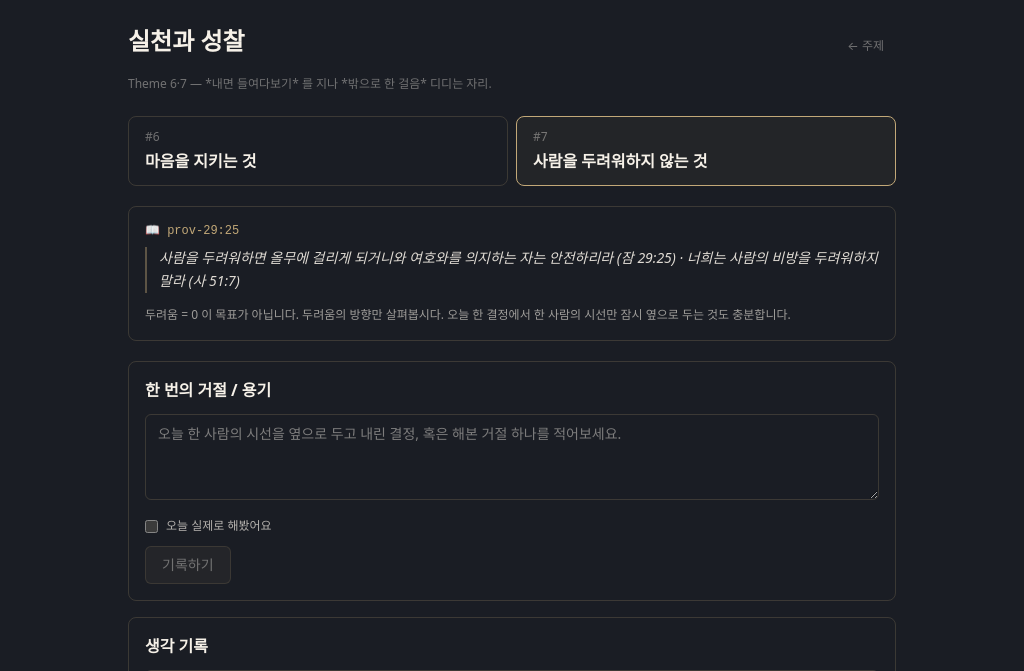
Test: /topics/practice › 적은 내용·체크·주제·성구 참조가 그대로 API 로 나가고, 성공하면 입력이 비워진다
In the text box with placeholder "오늘 한 사람의 시선을 옆으로 두고 내린 결정, 혹은 해본 거절 하나를 적어보세요.": {"x": 512, "y": 457} [145, 414, 879, 500], type "오늘 야근 요청을 거절했다"
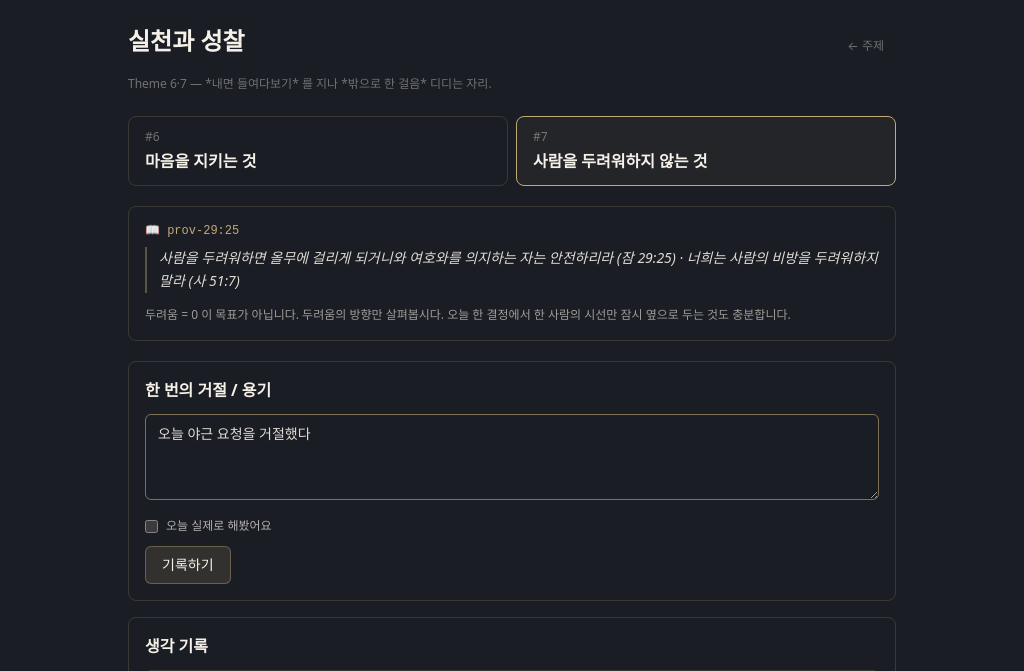
Click the checkbox labelled "오늘 실제로 해봤어요": {"x": 152, "y": 526} [145, 520, 158, 533]
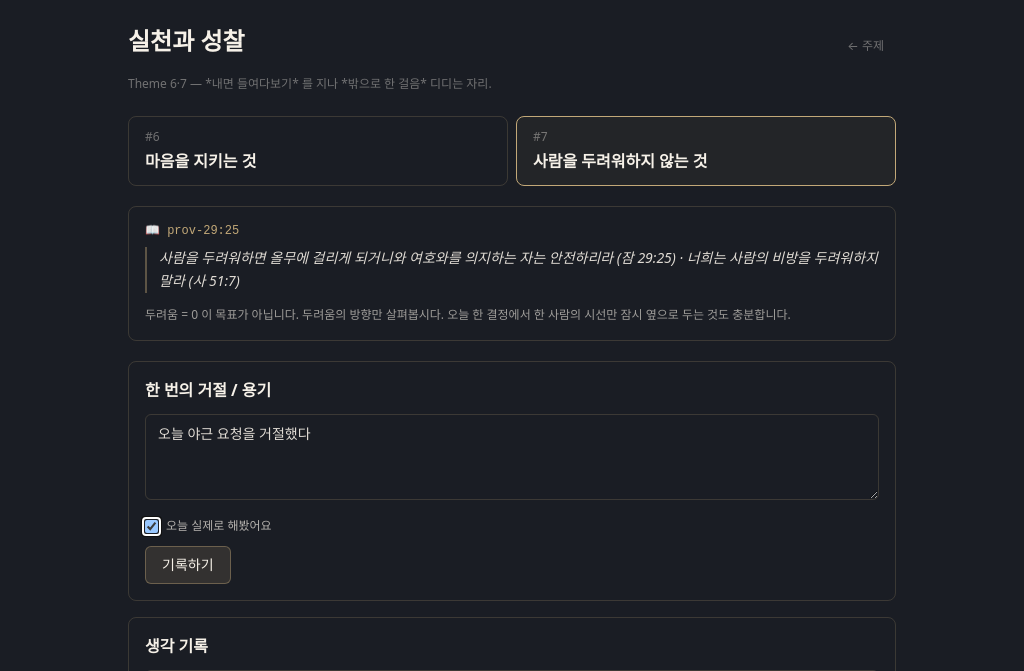
Click the button "기록하기": {"x": 188, "y": 565} [145, 546, 230, 584]
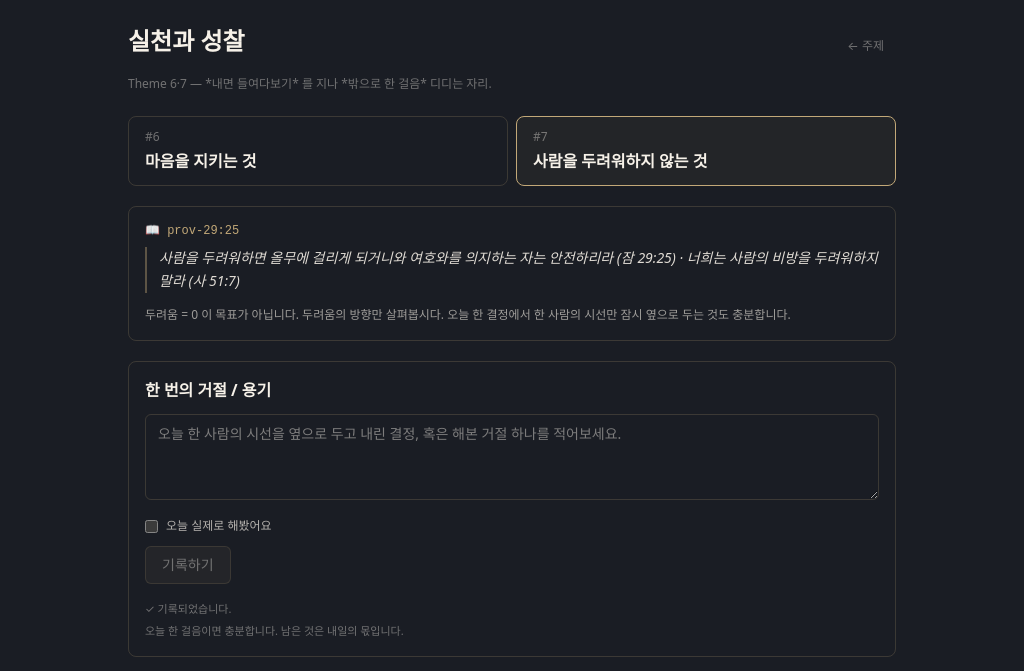
Now the text "✓ 기록되었습니다." is shown, box [145, 601, 231, 616]
Now the text "오늘 한 걸음이면 충분합니다. 남은 것은 내일의 몫입니다." is shown, box [145, 623, 404, 638]
Now the text box with placeholder "오늘 한 사람의 시선을 옆으로 두고 내린 결정, 혹은 해본 거절 하나를 적어보세요." is empty, box [145, 414, 879, 500]
